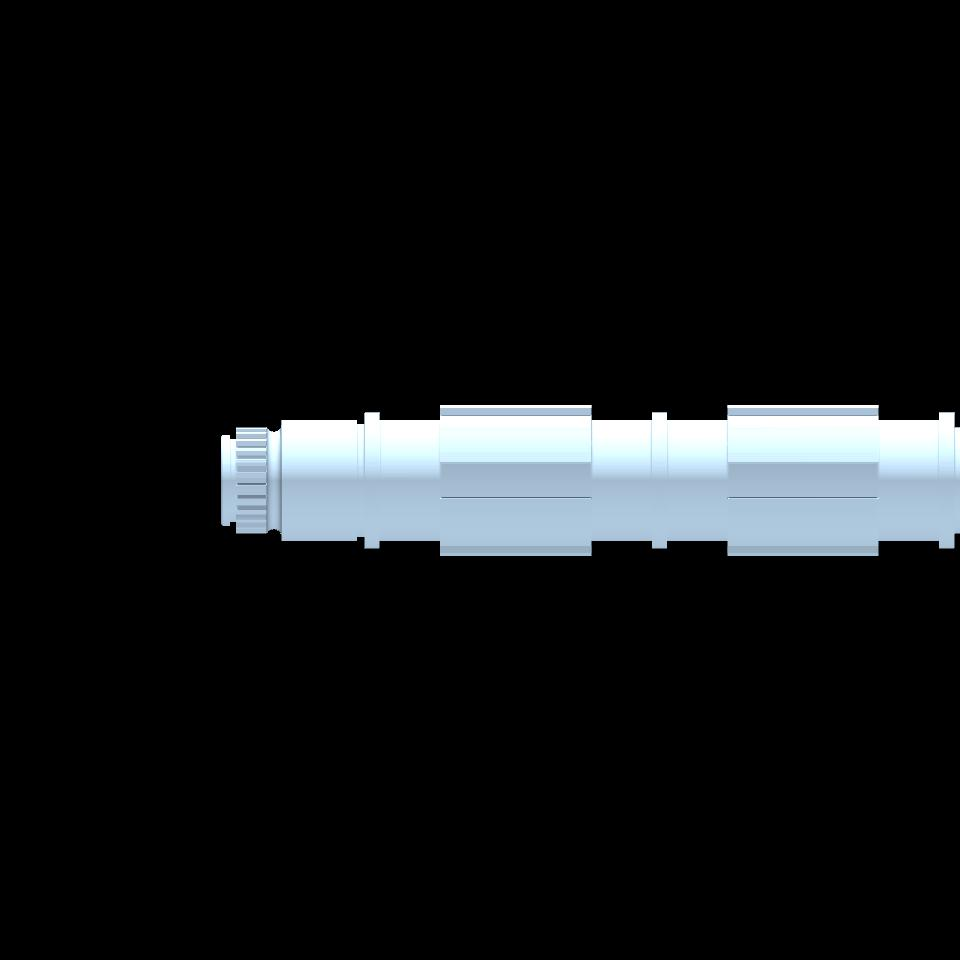Straight: (236, 427, 267, 533)
